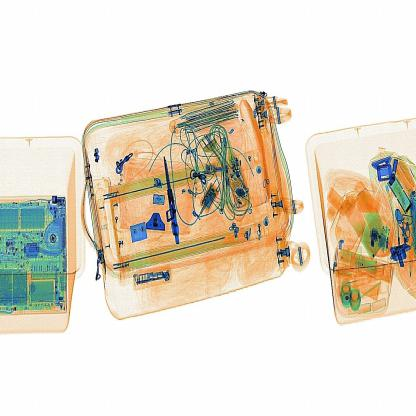gun: (157, 154, 189, 246)
